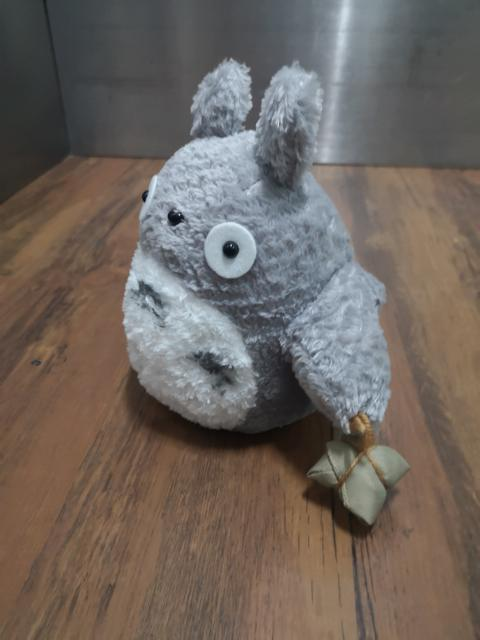totoro: (115, 54, 415, 538)
